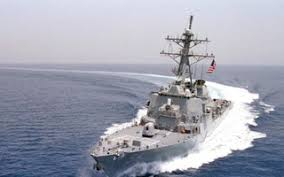tau_muctieu: (91, 30, 236, 172)
